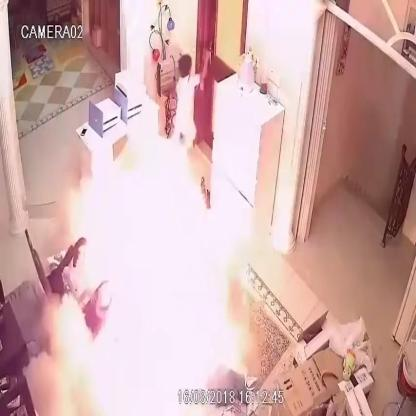fire: (53, 119, 238, 415)
